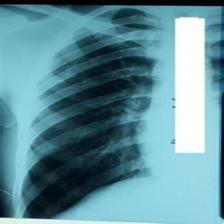tuberculosis: (15, 4, 224, 222)
